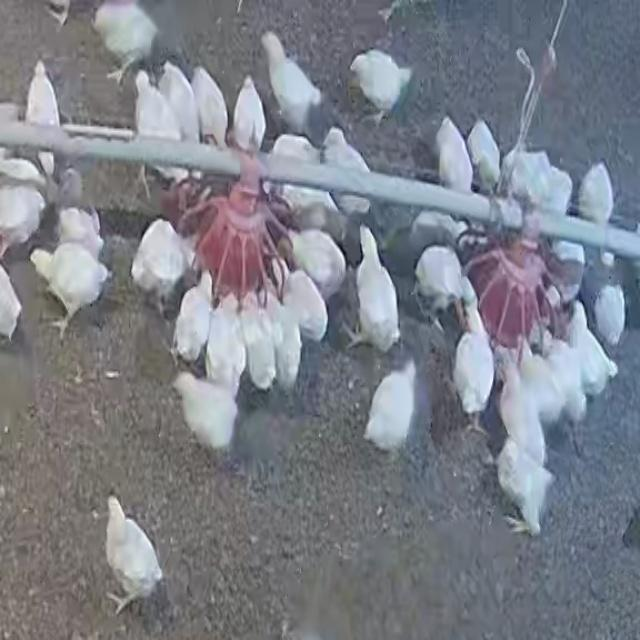chicken: (258, 28, 328, 138), (102, 494, 164, 608), (132, 69, 188, 189), (350, 224, 402, 352), (496, 424, 553, 537), (451, 301, 498, 430), (272, 132, 338, 223), (363, 352, 420, 456), (28, 244, 107, 316), (411, 243, 474, 329), (565, 302, 617, 405), (513, 336, 563, 437), (322, 128, 376, 218), (177, 373, 238, 452), (91, 0, 156, 72), (540, 326, 587, 424), (132, 215, 186, 298), (171, 268, 217, 361), (25, 60, 61, 178), (276, 258, 325, 343), (284, 225, 343, 294), (350, 49, 409, 116), (271, 284, 307, 392), (205, 293, 246, 385), (434, 116, 476, 202), (159, 61, 201, 146), (1, 180, 46, 255), (264, 284, 295, 391), (191, 65, 229, 152), (542, 242, 586, 311), (241, 290, 270, 391), (231, 76, 269, 153), (55, 203, 105, 253), (466, 116, 501, 186), (578, 161, 614, 228), (592, 282, 626, 350), (545, 165, 576, 214), (0, 155, 46, 188)
